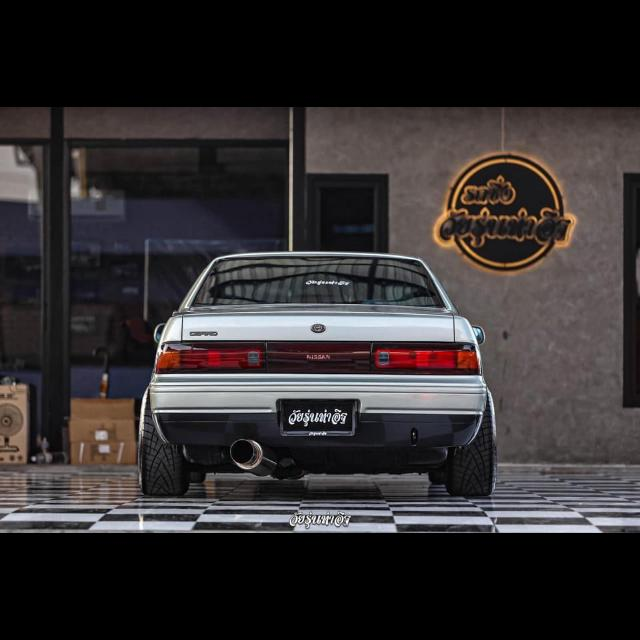cars: (130, 236, 508, 499)
